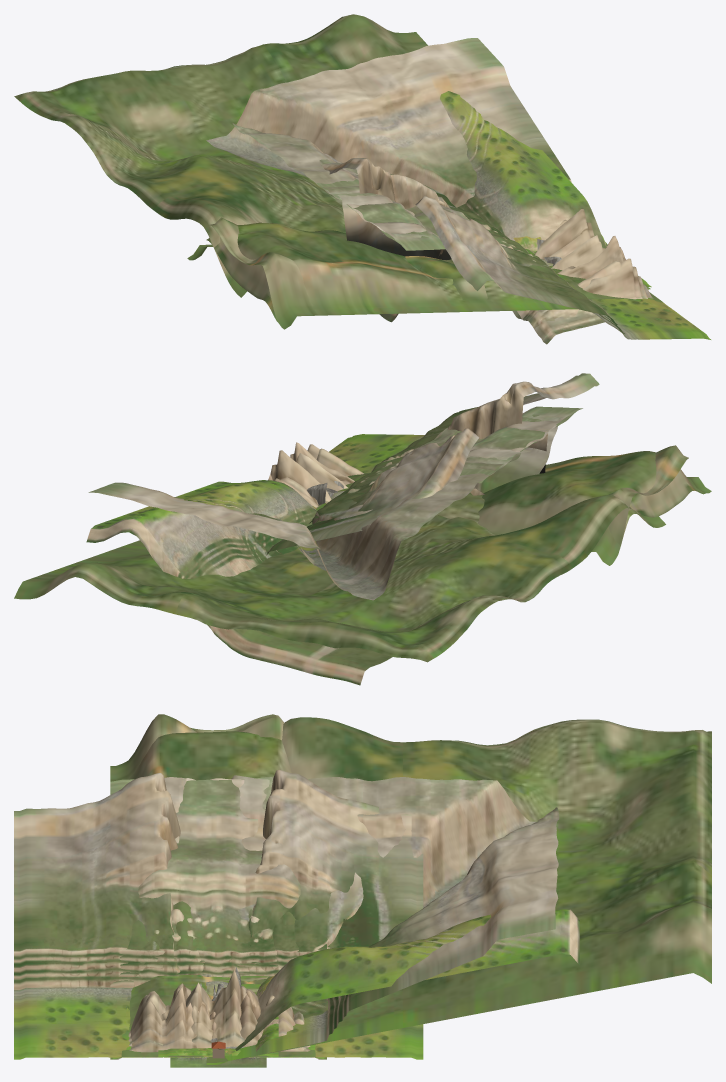
The model's file is wadi_halam_kit.glb.
3 views of the same model, one above another, from view 1: azimuth 30°, elevation 25°; view 2: azimuth 150°, elevation 25°; view 3: azimuth 270°, elevation 25° (orthographic). The views are drawn at different scales.
Visible parts, largest first — view 1: bd_slope_corner, bd_wall_corner, bd_slope_near_b, bd_head_wall, bd_outer_corner, bd_slope_near_a, bd_crest_a, bd_wall_far_b, bd_crest_b, bd_wall_far_c; view 2: bd_slope_corner, bd_outer_corner, bd_wall_corner, bd_head_wall, bd_slope_near_b, bd_slope_near_a, bd_wall_far_c, bd_crest_a, bd_wall_far_b, bd_taper, bd_crest_b; view 3: bd_slope_corner, bd_head_wall, bd_wall_corner, bd_wall_far_c, bd_outer_corner, bd_slope_near_b, bd_crest_b, bd_crest_a, bd_wall_far_b, bd_wall_far_a, bd_slope_near_a, bd_scree_a (+1 smaller).
Part boxes in pixels (bbox=[...]): bd_slope_corner: bbox=[14, 14, 427, 297]; bd_wall_corner: bbox=[206, 38, 607, 246]; bd_slope_near_b: bbox=[194, 222, 654, 322]; bd_head_wall: bbox=[316, 148, 710, 339]; bd_outer_corner: bbox=[440, 91, 605, 248]; bd_slope_near_a: bbox=[187, 217, 663, 329]; bd_crest_a: bbox=[512, 209, 653, 343]; bd_wall_far_b: bbox=[316, 178, 651, 299]; bd_crest_b: bbox=[517, 236, 651, 344]; bd_wall_far_c: bbox=[322, 178, 652, 299]; bd_slope_corner: bbox=[14, 494, 665, 662]; bd_outer_corner: bbox=[86, 480, 392, 685]; bd_wall_corner: bbox=[88, 441, 537, 600]; bd_head_wall: bbox=[266, 373, 599, 555]; bd_slope_near_b: bbox=[316, 451, 705, 559]; bd_slope_near_a: bbox=[436, 445, 711, 565]; bd_wall_far_c: bbox=[310, 406, 578, 522]; bd_crest_a: bbox=[270, 448, 363, 505]; bd_wall_far_b: bbox=[309, 406, 579, 523]; bd_taper: bbox=[474, 406, 573, 492]; bd_crest_b: bbox=[268, 442, 354, 507]; bd_slope_corner: bbox=[206, 717, 711, 1062]; bd_head_wall: bbox=[14, 770, 423, 1059]; bd_wall_corner: bbox=[206, 777, 559, 1064]; bd_wall_far_c: bbox=[110, 779, 326, 1059]; bd_outer_corner: bbox=[235, 909, 579, 1050]; bd_slope_near_b: bbox=[122, 731, 314, 1056]; bd_crest_b: bbox=[112, 983, 323, 1059]; bd_crest_a: bbox=[113, 969, 326, 1059]; bd_wall_far_b: bbox=[110, 775, 326, 1059]; bd_wall_far_a: bbox=[110, 778, 326, 1058]; bd_slope_near_a: bbox=[110, 714, 326, 1059]; bd_scree_a: bbox=[170, 983, 266, 1067].
Size of what is drawn, in the model's own units: 126 by 47.8 by 174.
1 material, 1 textured.
